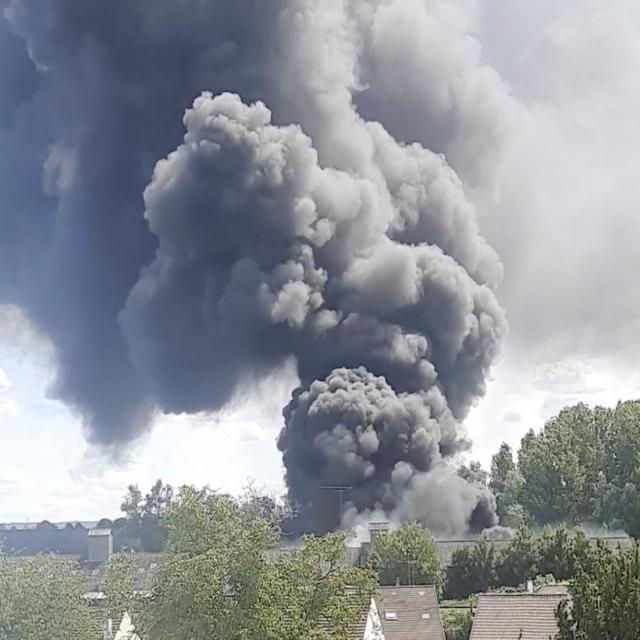smoke: (132, 58, 515, 522)
